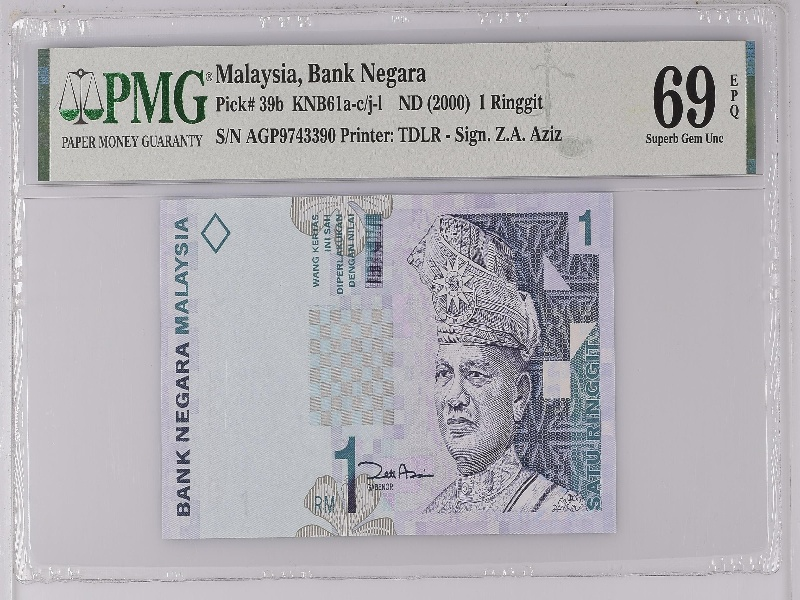papernote: (155, 193, 621, 533)
